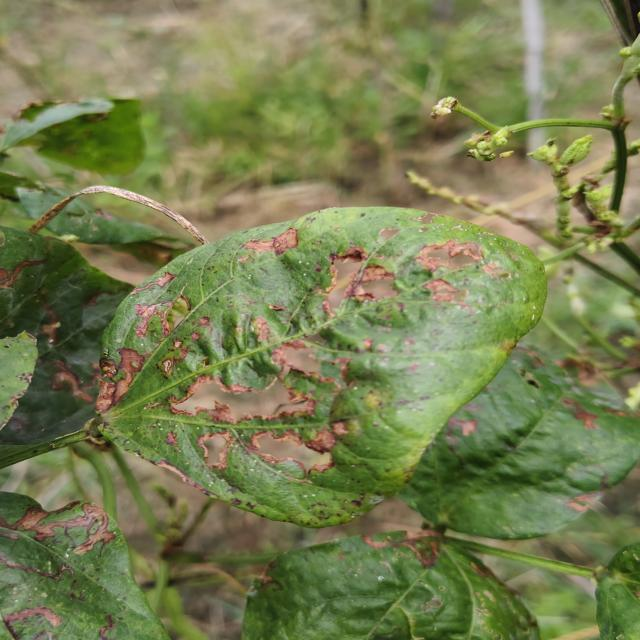leaf-moderate: (96, 207, 546, 528), (0, 201, 170, 445), (0, 492, 170, 640)
sitaw-aphid-low: (242, 531, 540, 640)
